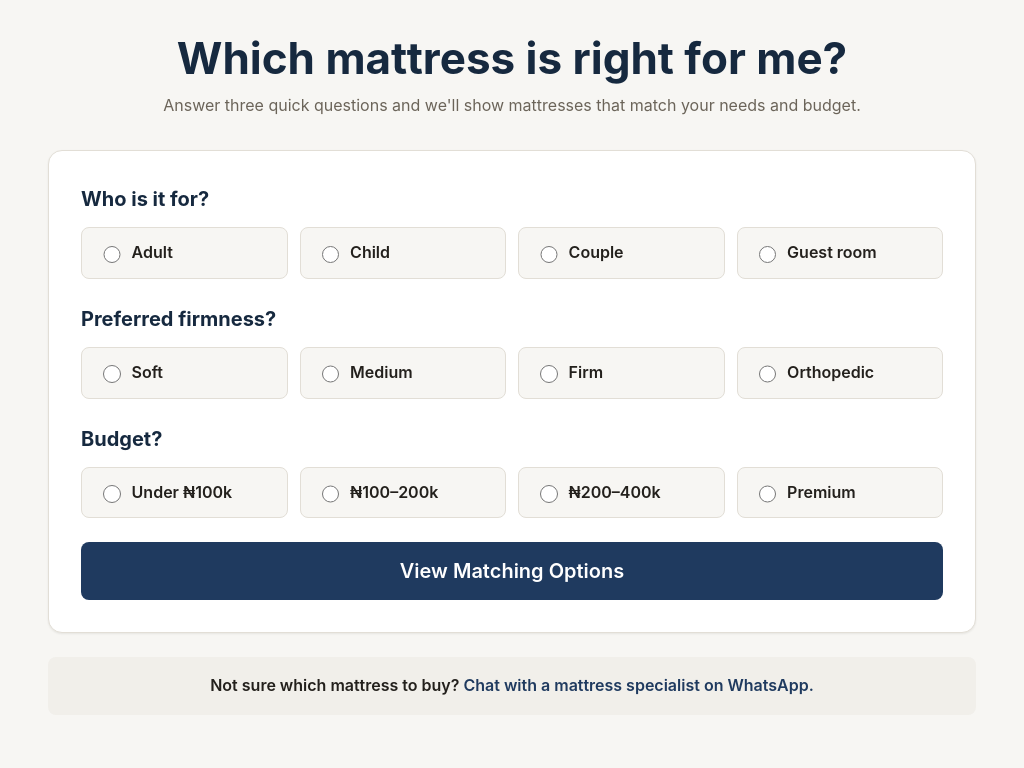
Test: Recommendation page › shows an informative empty state when the catalogue cannot match
The image size is (1024, 768).
Click the radio button labelled "Adult".
click(112, 255)  # box [103, 246, 121, 264]
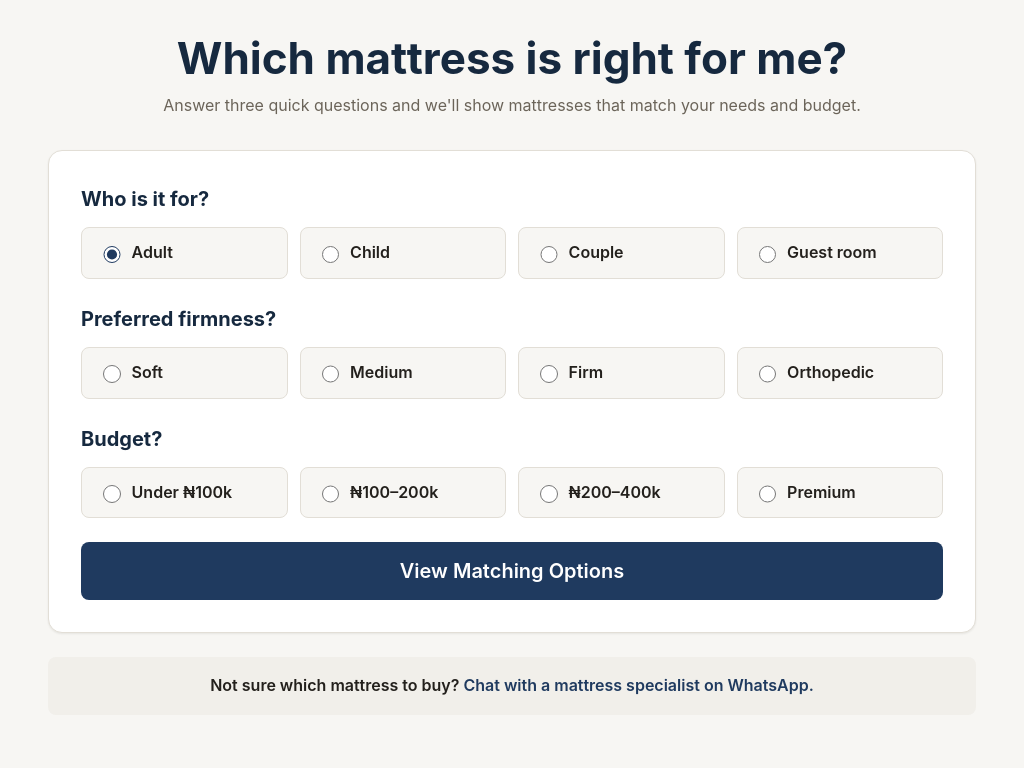
Click the radio button labelled "Medium".
click(330, 374)  # box [322, 366, 339, 383]
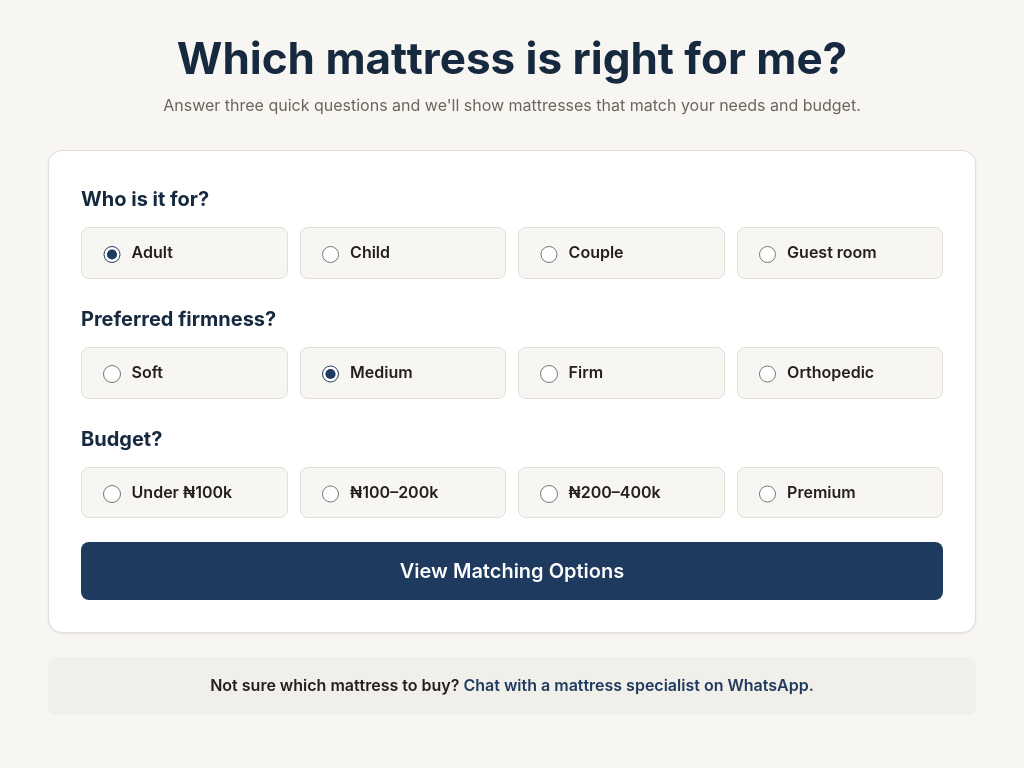
Click the radio button labelled "₦100–200k".
click(330, 494)  # box [322, 485, 339, 503]
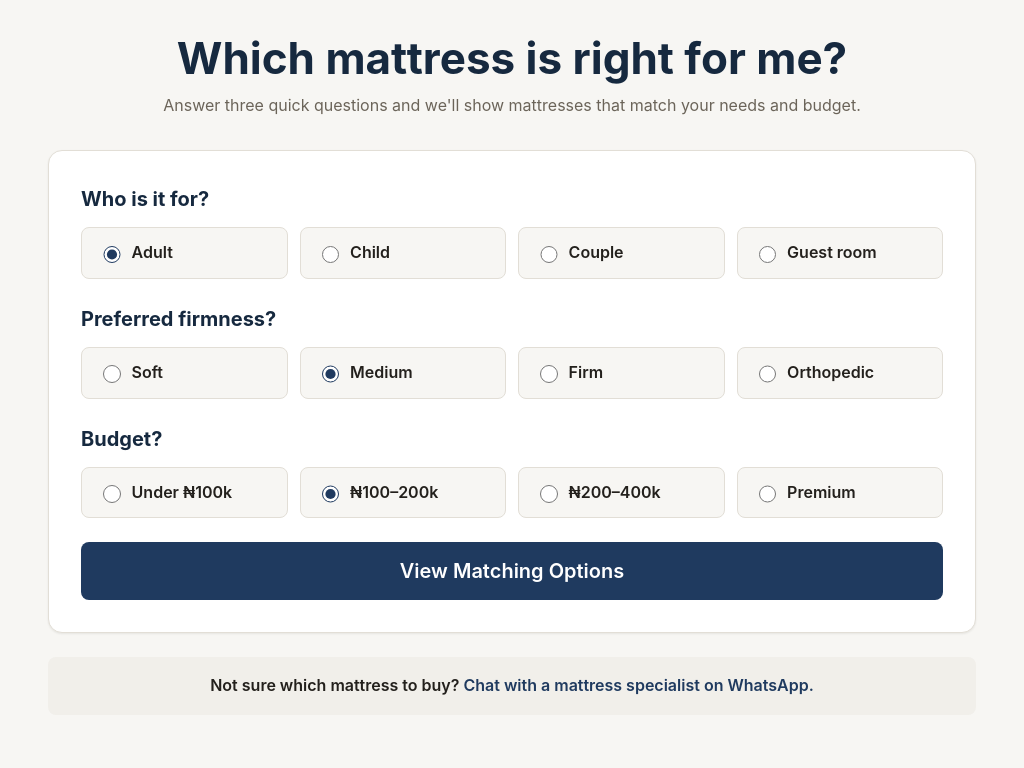
Click the button "View Matching Options".
click(512, 571)  # box [81, 542, 943, 600]
(page scrolled)
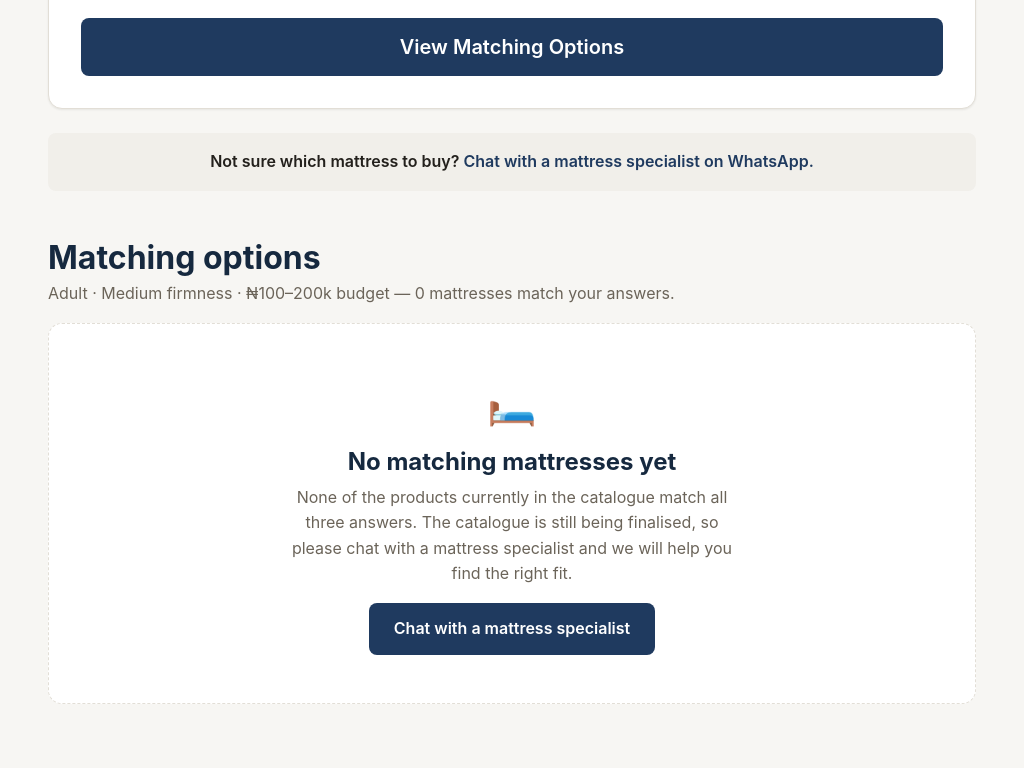
expect the heading "No matching mattresses yet" is shown: met, box [348, 447, 676, 476]
expect the text "catalogue is still being finalised" is shown: met, box [292, 486, 732, 583]
